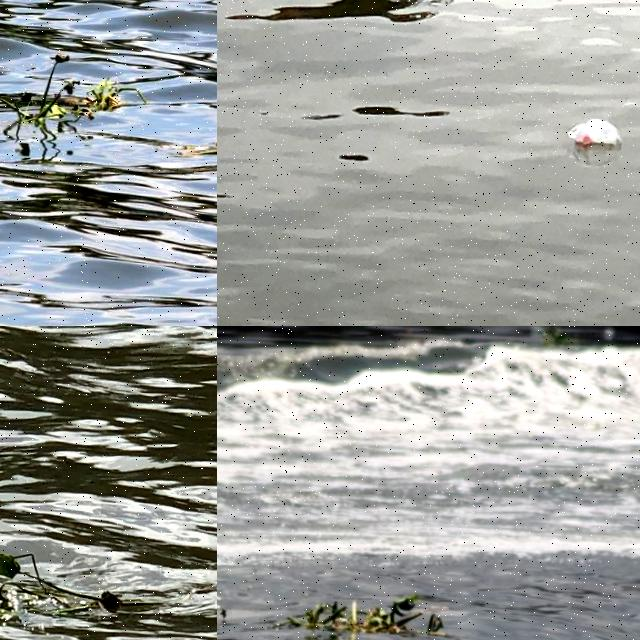water-hyacinth: (1, 534, 138, 629), (279, 585, 432, 640), (1, 52, 93, 142)
